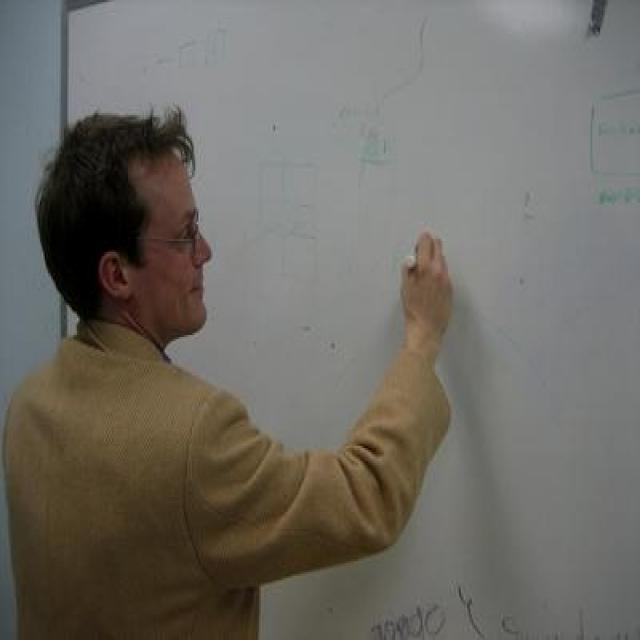no_vest: (4, 325, 277, 640)
